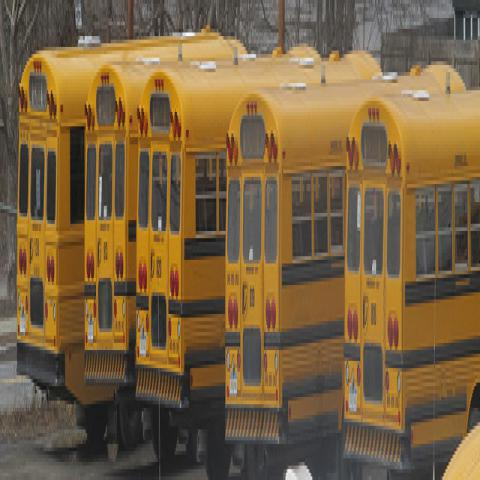bus: (134, 40, 379, 476), (83, 35, 315, 388), (16, 36, 220, 401), (225, 81, 368, 458), (344, 83, 480, 473)
